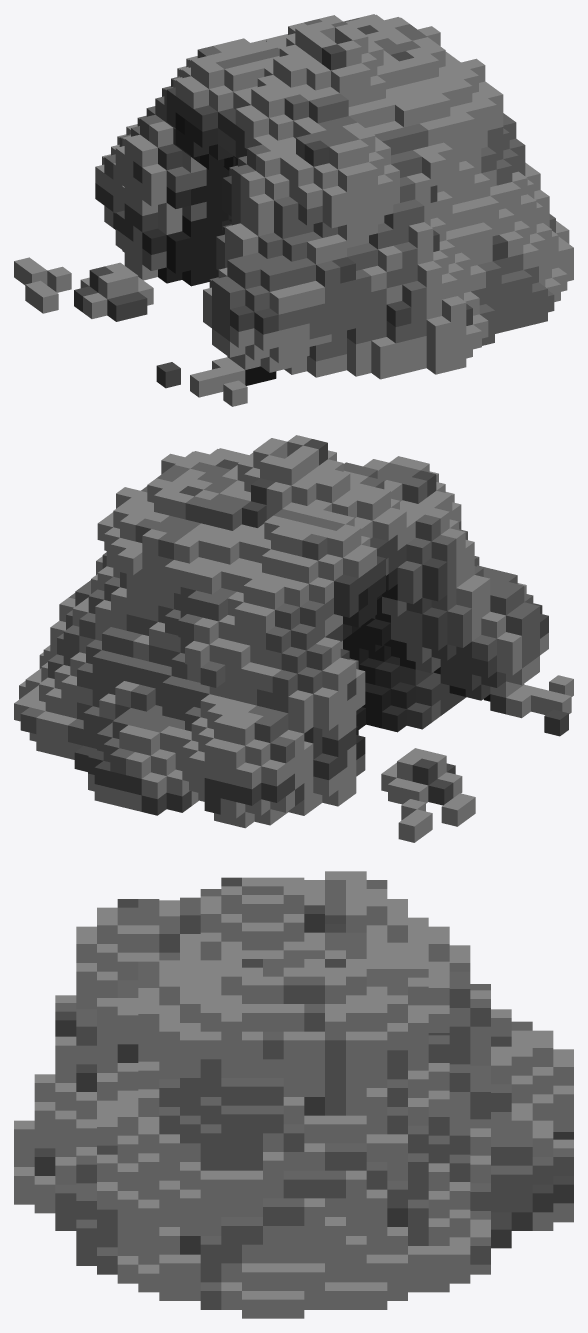
Rendered from Medieval Assets-361-Cave.obj.
The picture shows the model from 3 angles, top to bottom: view 1: azimuth 30°, elevation 25°; view 2: azimuth 150°, elevation 25°; view 3: azimuth 270°, elevation 25°; orthographic projection. The views are drawn at different scales.
Visible parts, largest first — view 1: Cave; view 2: Cave; view 3: Cave.
Boxes of the visible parts, box(x1,y1,x2,y2) form: Cave: box(14, 14, 573, 406); Cave: box(14, 435, 573, 842); Cave: box(14, 871, 573, 1318).
Bounding box in the file's own units: 3 × 1.6 × 2.7.
Materials: 1 (1 with a texture image).
